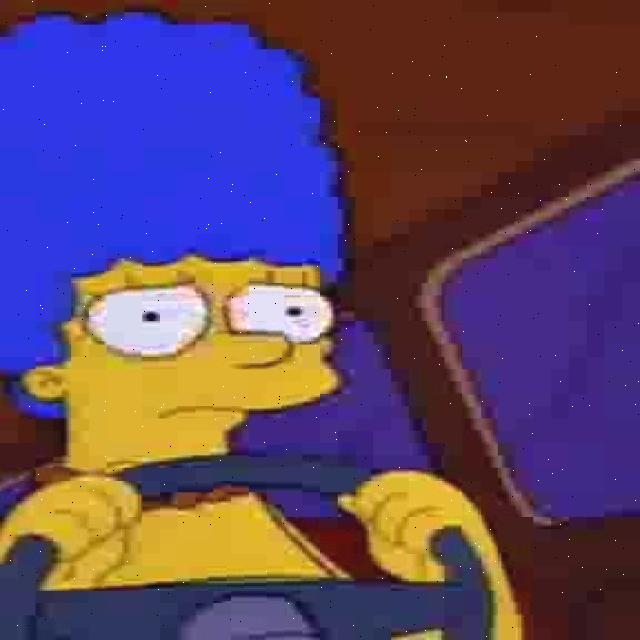Marge Simpson: (1, 8, 347, 500)
